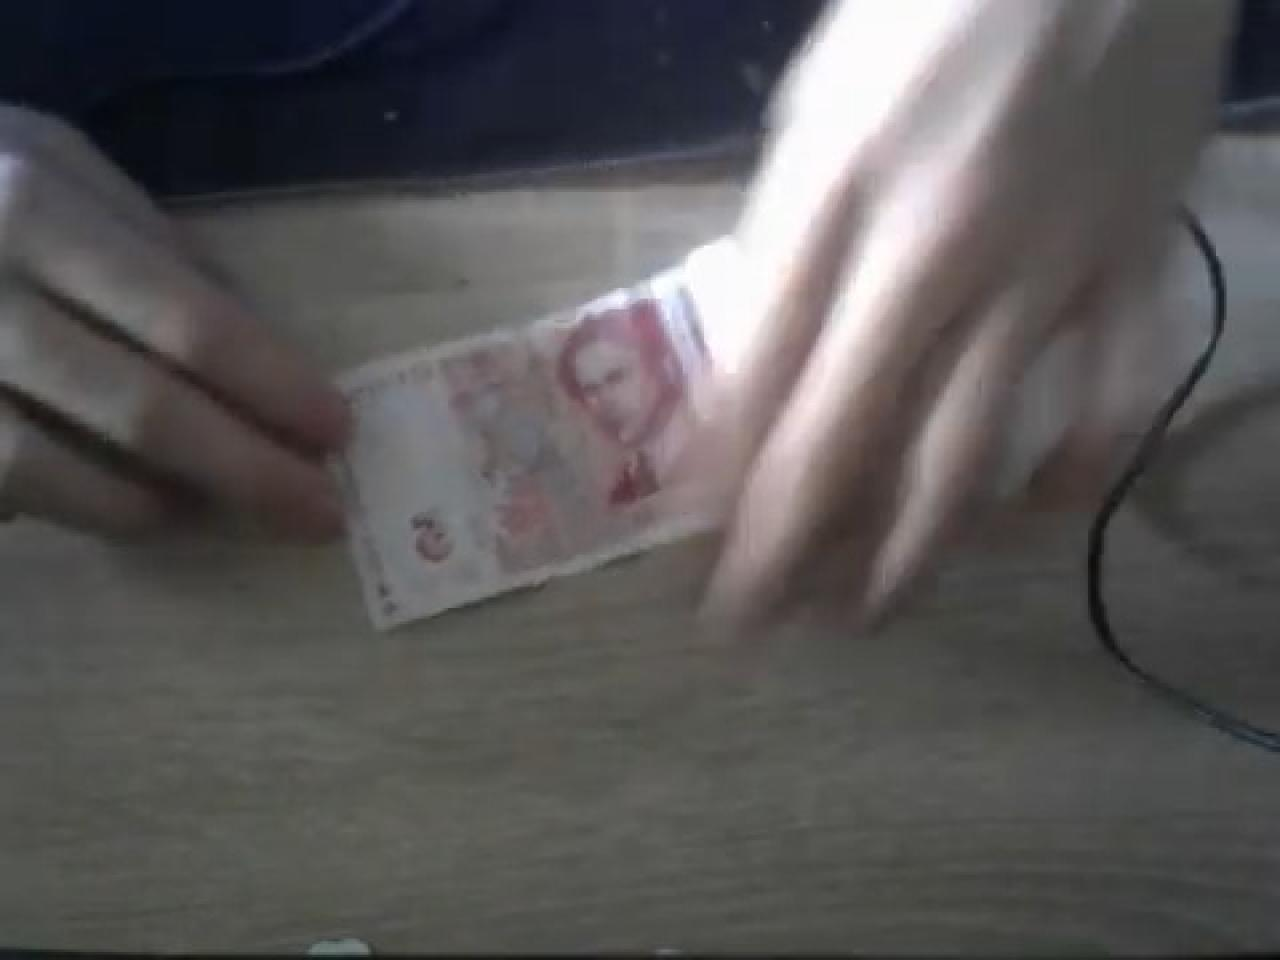5leva: (333, 267, 733, 635)
